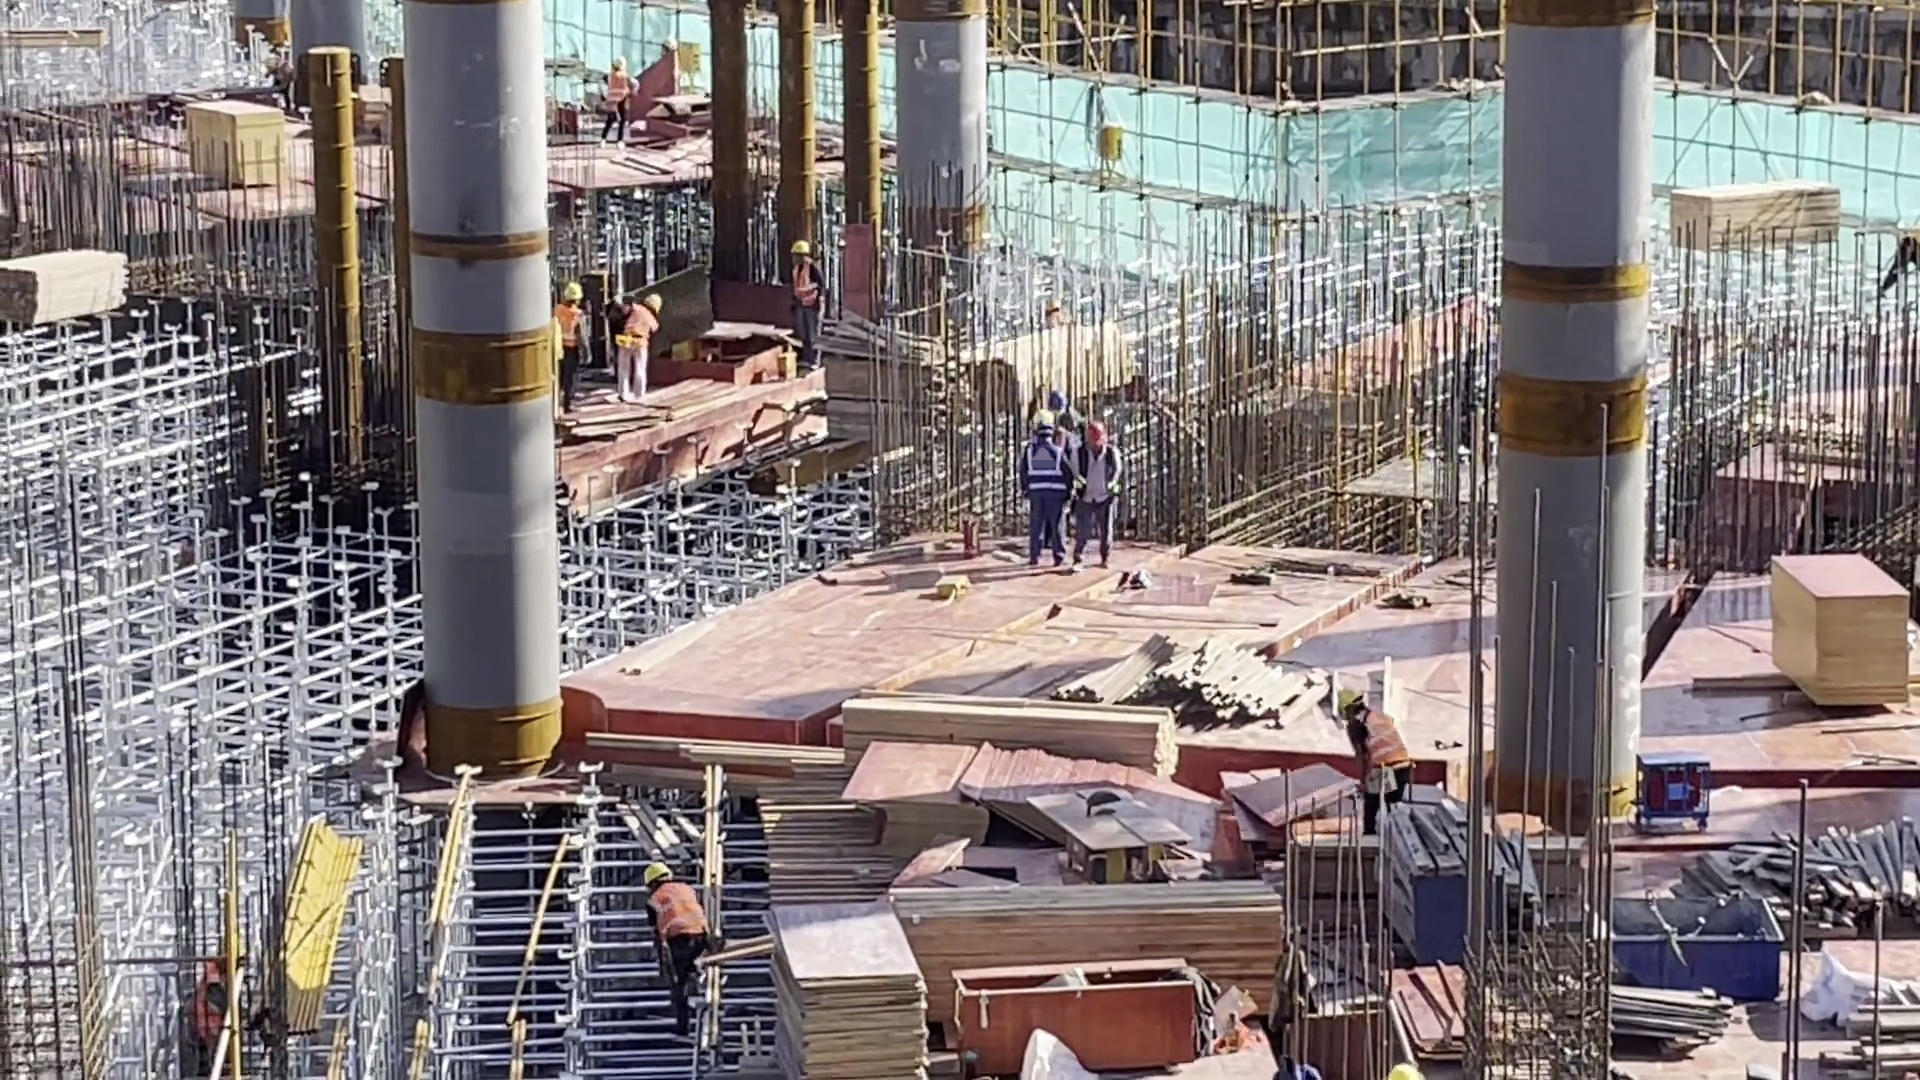board: (772, 913, 928, 1080), (1766, 553, 1908, 707), (848, 741, 984, 873), (184, 95, 296, 191), (1389, 954, 1475, 1062)
cutter: (1020, 783, 1199, 887), (688, 321, 798, 393)
ebox: (1093, 119, 1125, 175), (677, 44, 702, 95)
helmet: (1080, 420, 1107, 446), (641, 863, 676, 881), (640, 293, 669, 311), (1031, 410, 1055, 432), (786, 239, 813, 256), (560, 280, 583, 300), (1047, 390, 1066, 411)
hopper: (1610, 890, 1784, 1003)
person: (635, 858, 722, 1041), (1332, 689, 1413, 813), (1015, 409, 1067, 572), (1073, 420, 1126, 576), (610, 292, 665, 402), (555, 281, 586, 415), (781, 237, 824, 331), (1874, 208, 1919, 298), (602, 54, 637, 144)
vest: (647, 884, 718, 947), (1352, 709, 1409, 763), (1024, 446, 1066, 503), (1080, 442, 1117, 501), (786, 260, 826, 303), (624, 306, 656, 352), (558, 305, 585, 350), (608, 71, 630, 101)
wood: (884, 882, 1289, 967), (837, 686, 1179, 775), (1011, 641, 1319, 734), (1671, 821, 1920, 931), (812, 324, 953, 456), (968, 321, 1136, 414), (1674, 182, 1854, 252), (1817, 978, 1920, 1080), (1, 250, 134, 327)
